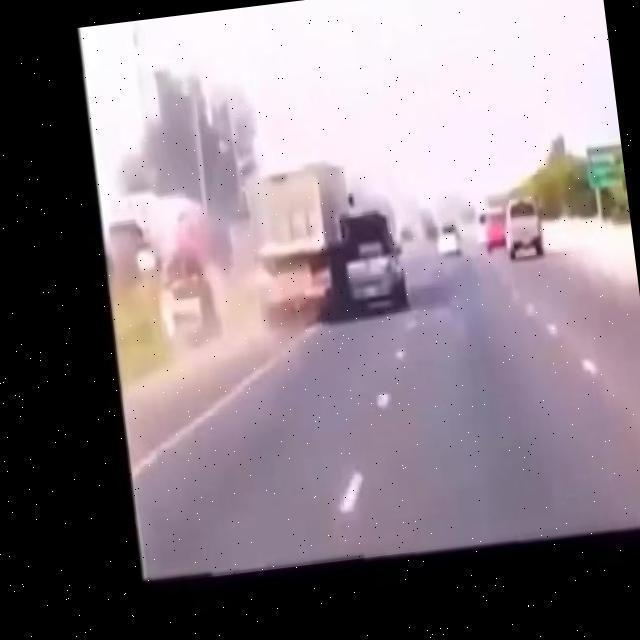accident: (244, 148, 417, 334)
